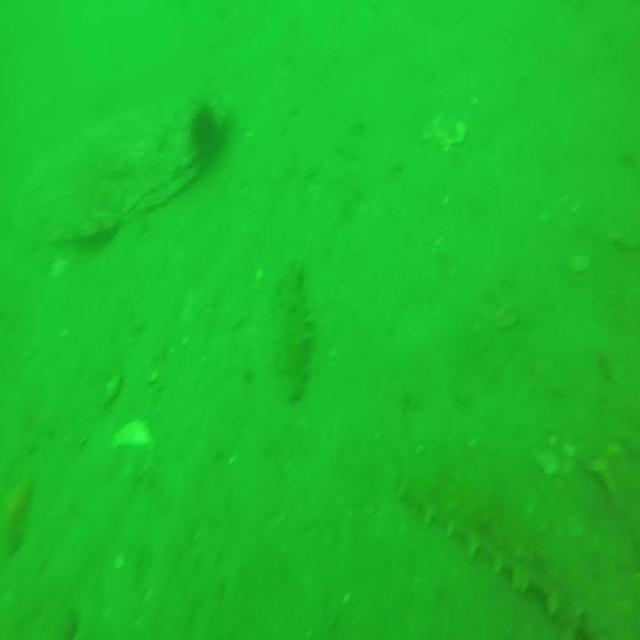echinus: (194, 104, 215, 160)
holothurian: (398, 452, 601, 640), (268, 260, 314, 404)
scallop: (109, 422, 160, 491)
